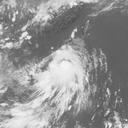cyclone: (37, 45, 88, 103)
